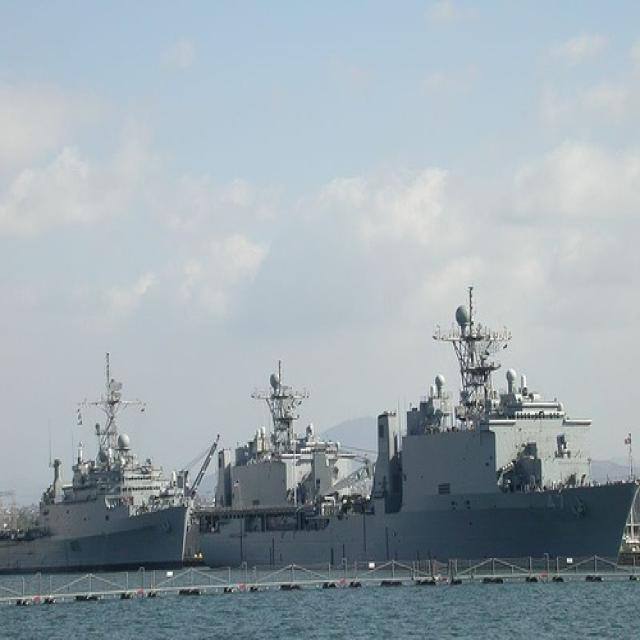boat: (201, 288, 640, 569), (1, 351, 220, 574)
